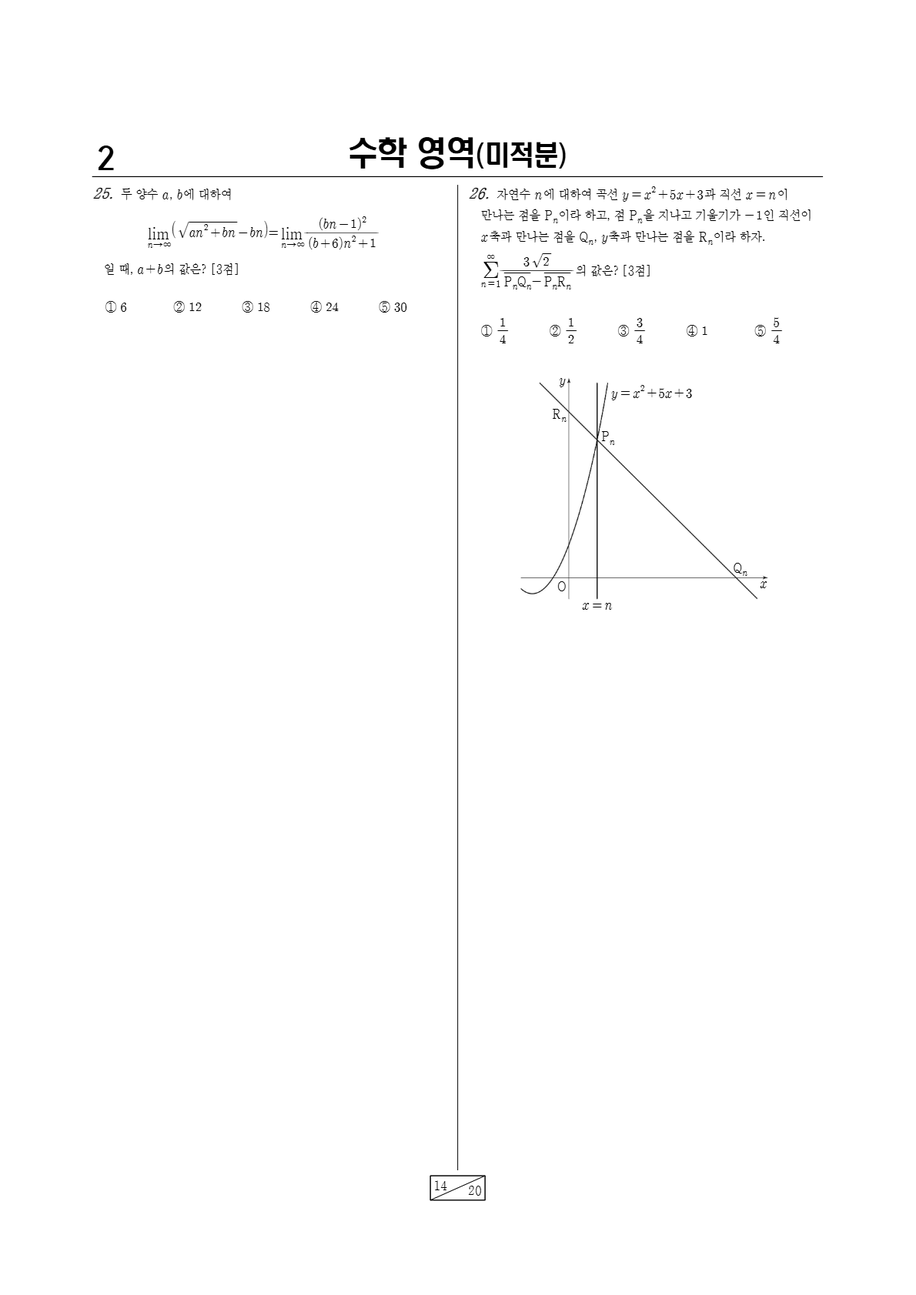opt_1: (103, 299, 116, 314), (480, 323, 492, 336)
opt_2: (173, 299, 186, 313), (549, 323, 561, 336)
opt_3: (617, 324, 629, 337), (242, 299, 252, 313)
opt_4: (310, 299, 321, 313), (686, 323, 697, 337)
opt_5: (754, 323, 766, 337), (379, 299, 390, 313)
